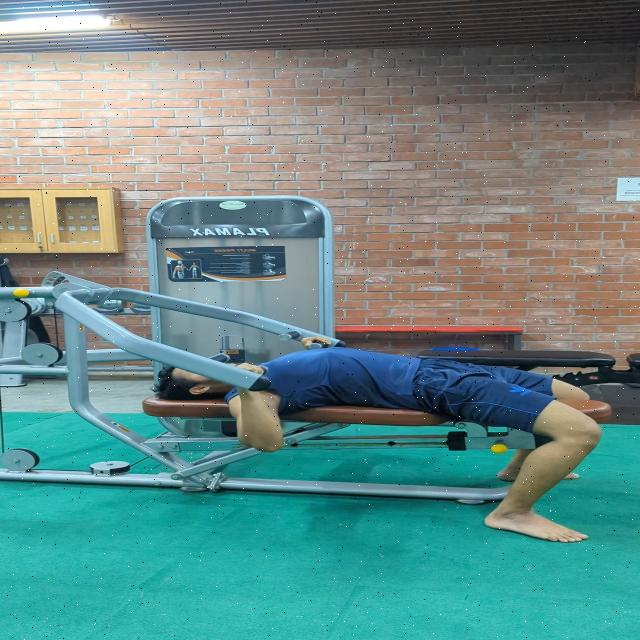Normal_BrenchPress: (150, 308, 605, 540)
